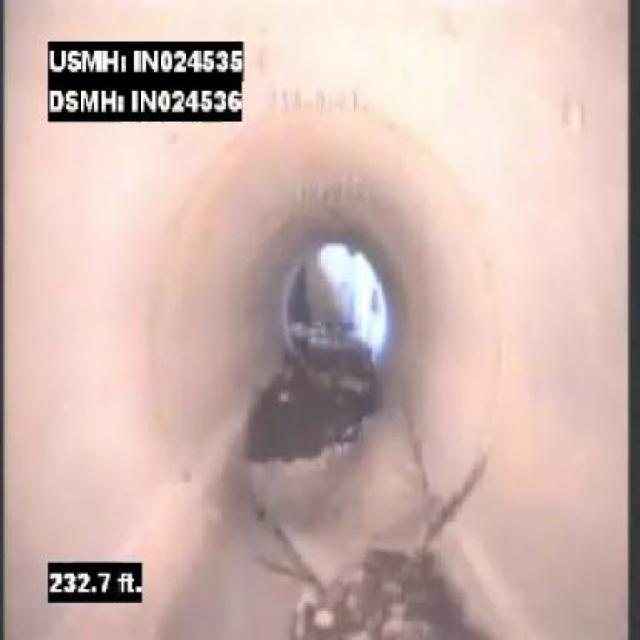Obstacle: (237, 382, 451, 583)
